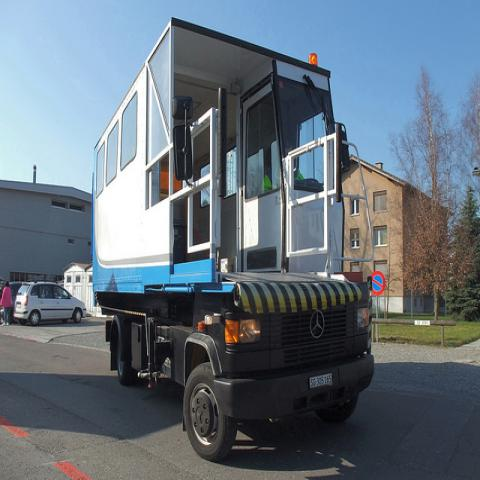car: (13, 280, 87, 327), (0, 282, 22, 322)
truck: (92, 20, 374, 459)
